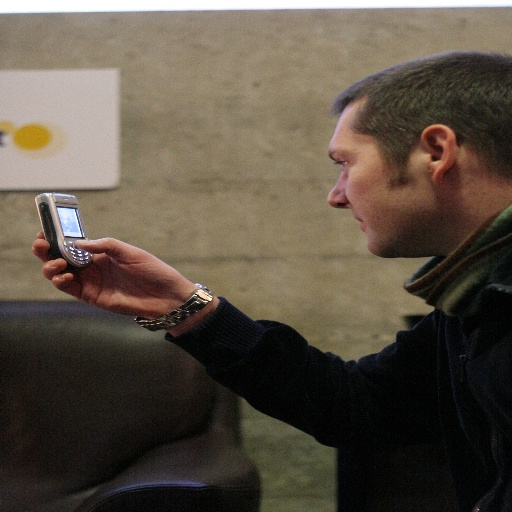hand: (63, 229, 213, 331)
